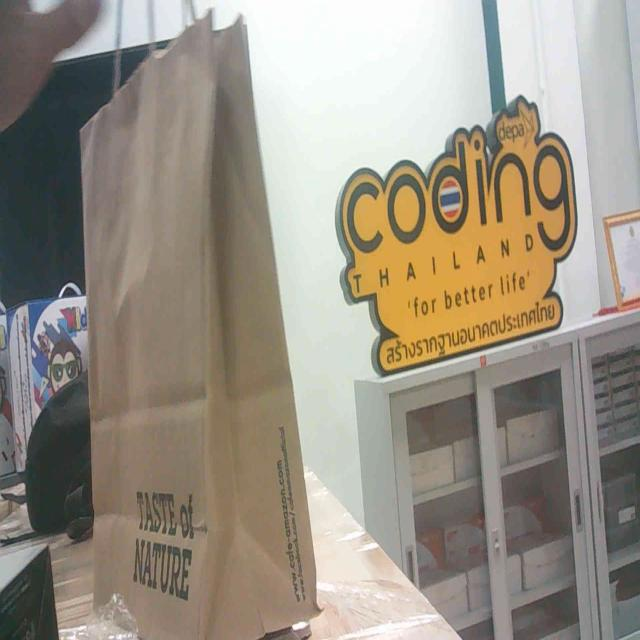bag: (69, 54, 336, 640)
